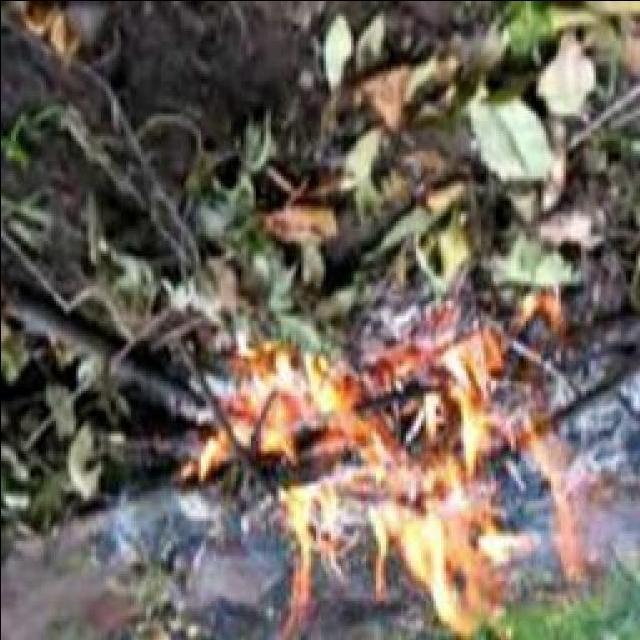Fire: (212, 340, 586, 624)
